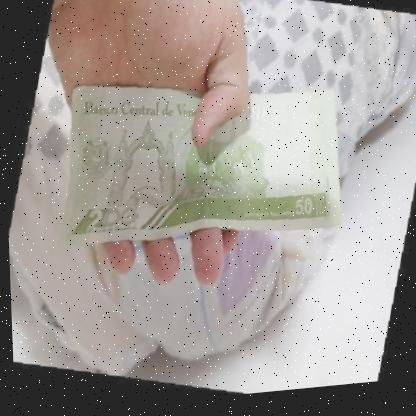fifty-back-vef: (44, 48, 364, 295)
